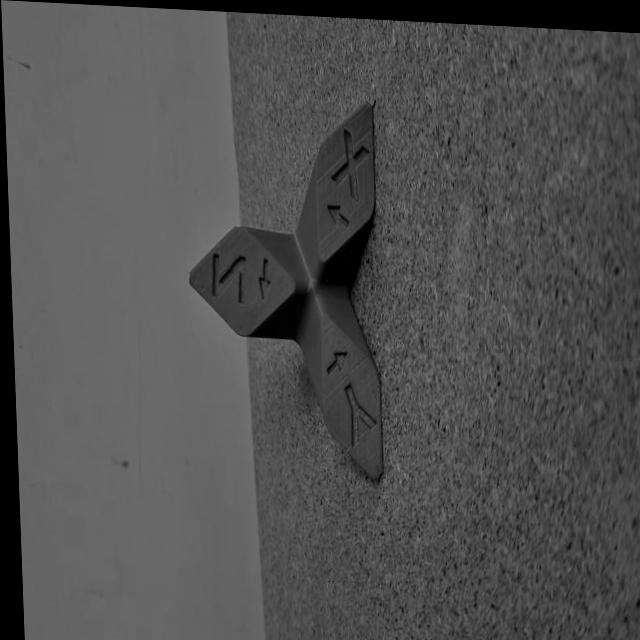eje: (177, 92, 391, 489)
